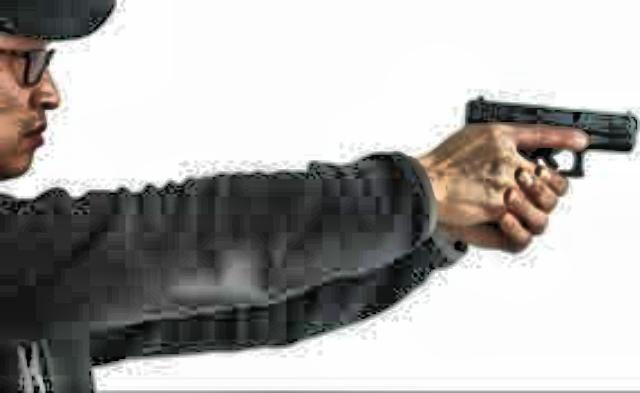pistol: (461, 87, 637, 232)
